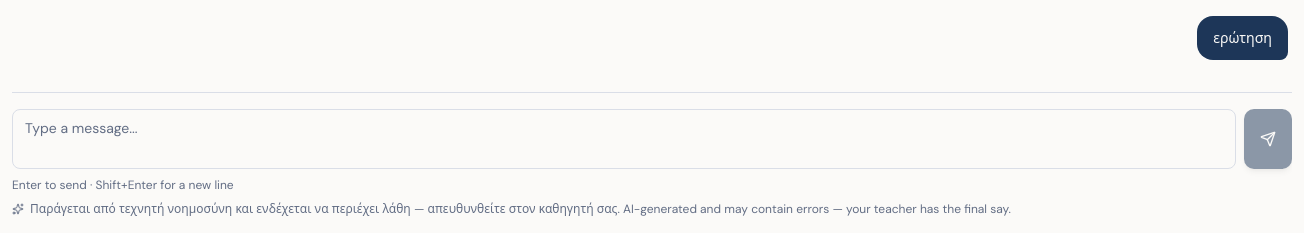
it: ChatWidget — composing while a turn is in flight › enables Send once the turn is over
Type "έτοιμο" into the text box with placeholder "Type a message..." at (624, 139), box [12, 109, 1236, 169]
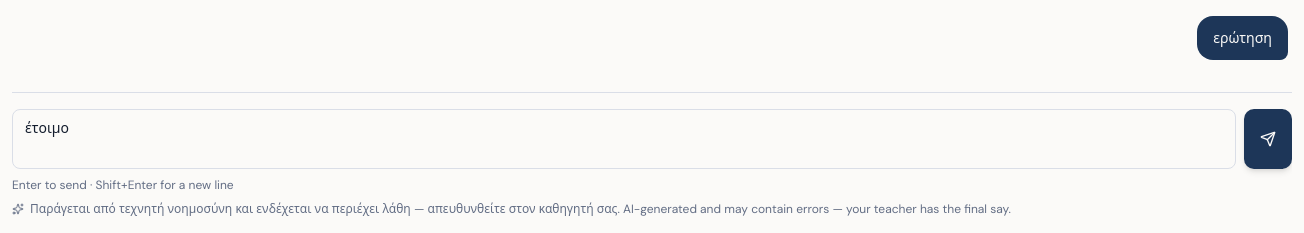
Expected: the submit button is enabled, [1244, 109, 1292, 169]
